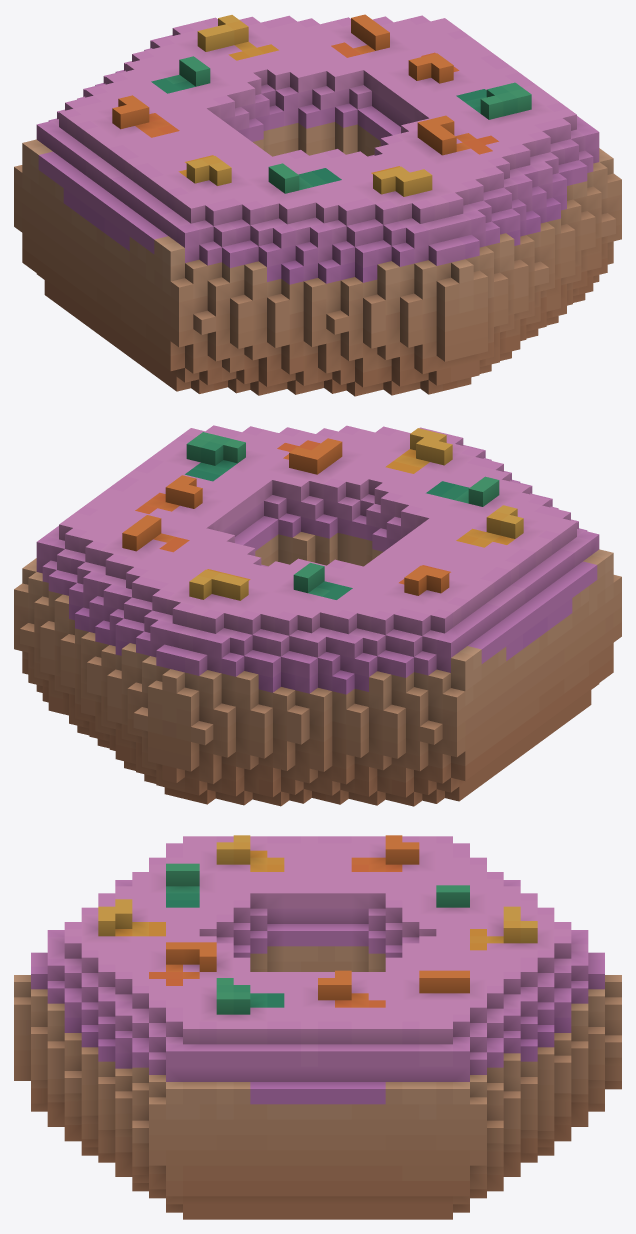
The model's file is donut.glb.
3 renders of one model, top to bottom at view 1: azimuth 30°, elevation 25°; view 2: azimuth 150°, elevation 25°; view 3: azimuth 270°, elevation 25°, orthographic. The views are drawn at different scales.
Parts seen in each view (by area): view 1: voxels; view 2: voxels; view 3: voxels.
Part boxes in pixels (left/top/right/bottom): voxels: left=14, top=14, right=621, bottom=396; voxels: left=14, top=425, right=621, bottom=806; voxels: left=14, top=835, right=621, bottom=1219.
Bounding box in the file's own units: 0.2454 × 0.1029 × 0.285.
